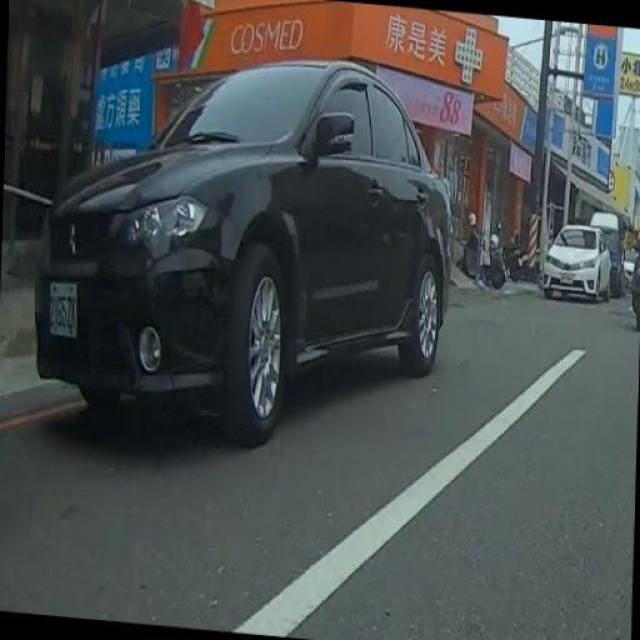Legalparking: (14, 58, 512, 516)
